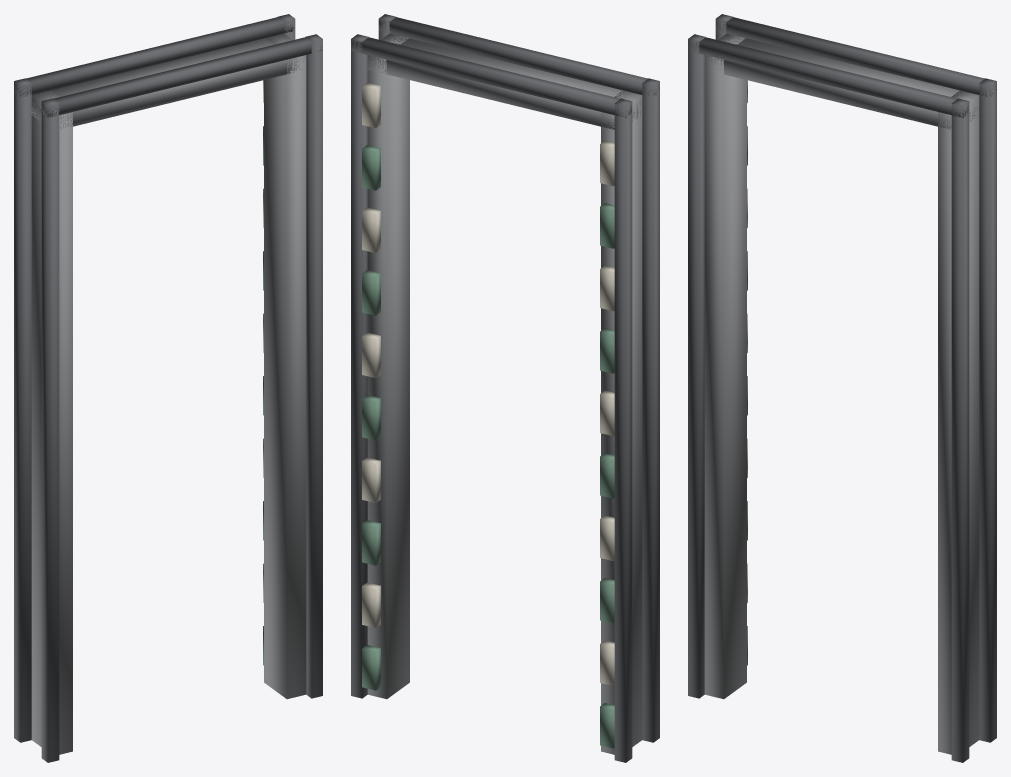
File: doorway_tile_return_w86_h240_d16.glb
3 views of the same model, side by side, from view 1: azimuth 30°, elevation 25°; view 2: azimuth 150°, elevation 25°; view 3: azimuth 330°, elevation 25° (orthographic).
Parts seen in each view (by area): view 1: world; view 2: world; view 3: world.
Boxes of the visible parts, bbox=[...] form: world: bbox=[14, 14, 322, 762]; world: bbox=[351, 14, 659, 762]; world: bbox=[688, 14, 996, 762].
Bounding box in the file's own units: 1.1 × 2.52 × 0.2407.
